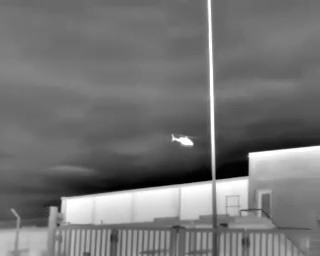HELICOPTER: (168, 128, 202, 152)
